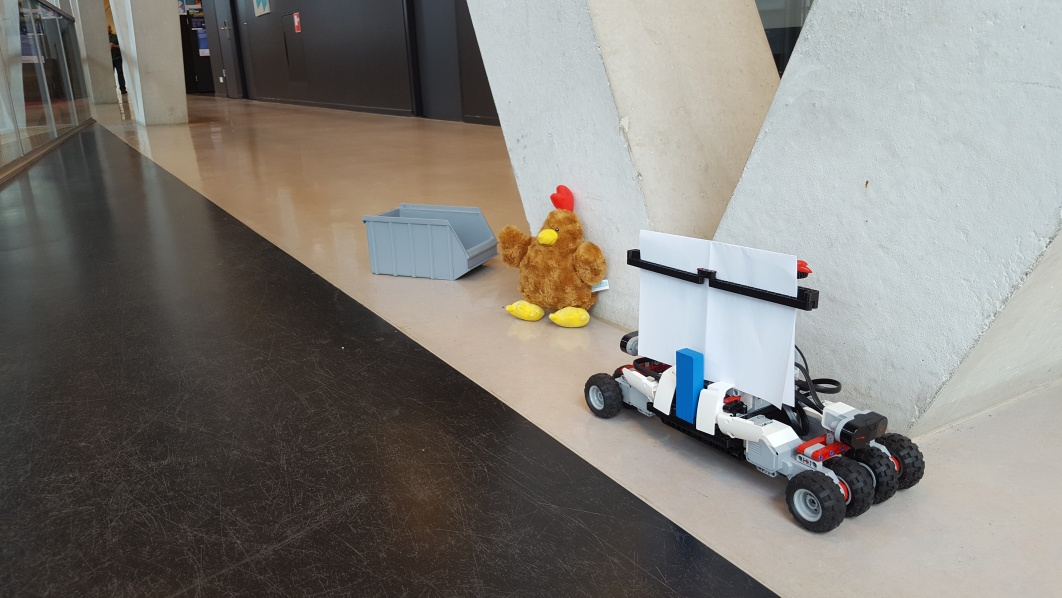car: (584, 229, 924, 535)
chicken: (500, 184, 613, 329)
tray: (361, 201, 502, 281)
